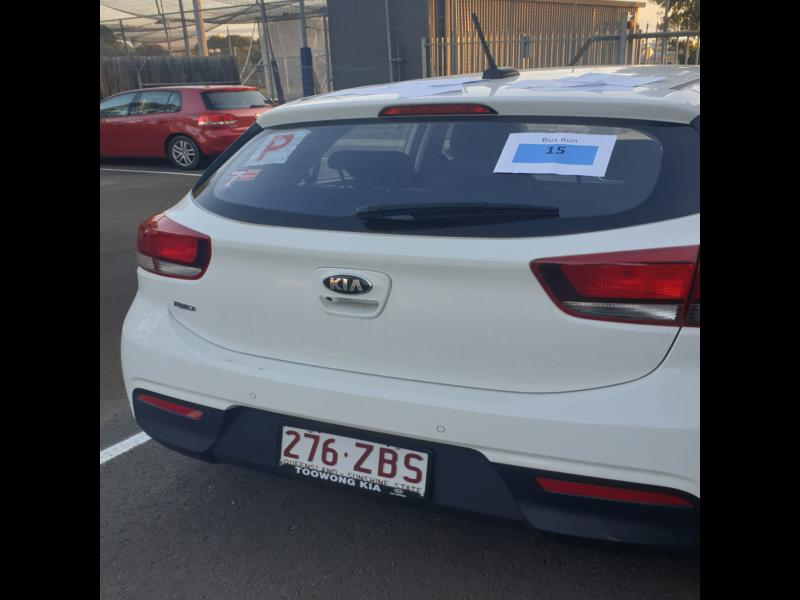BusRun: (513, 143, 597, 167)
PlateNo: (276, 422, 432, 496)
